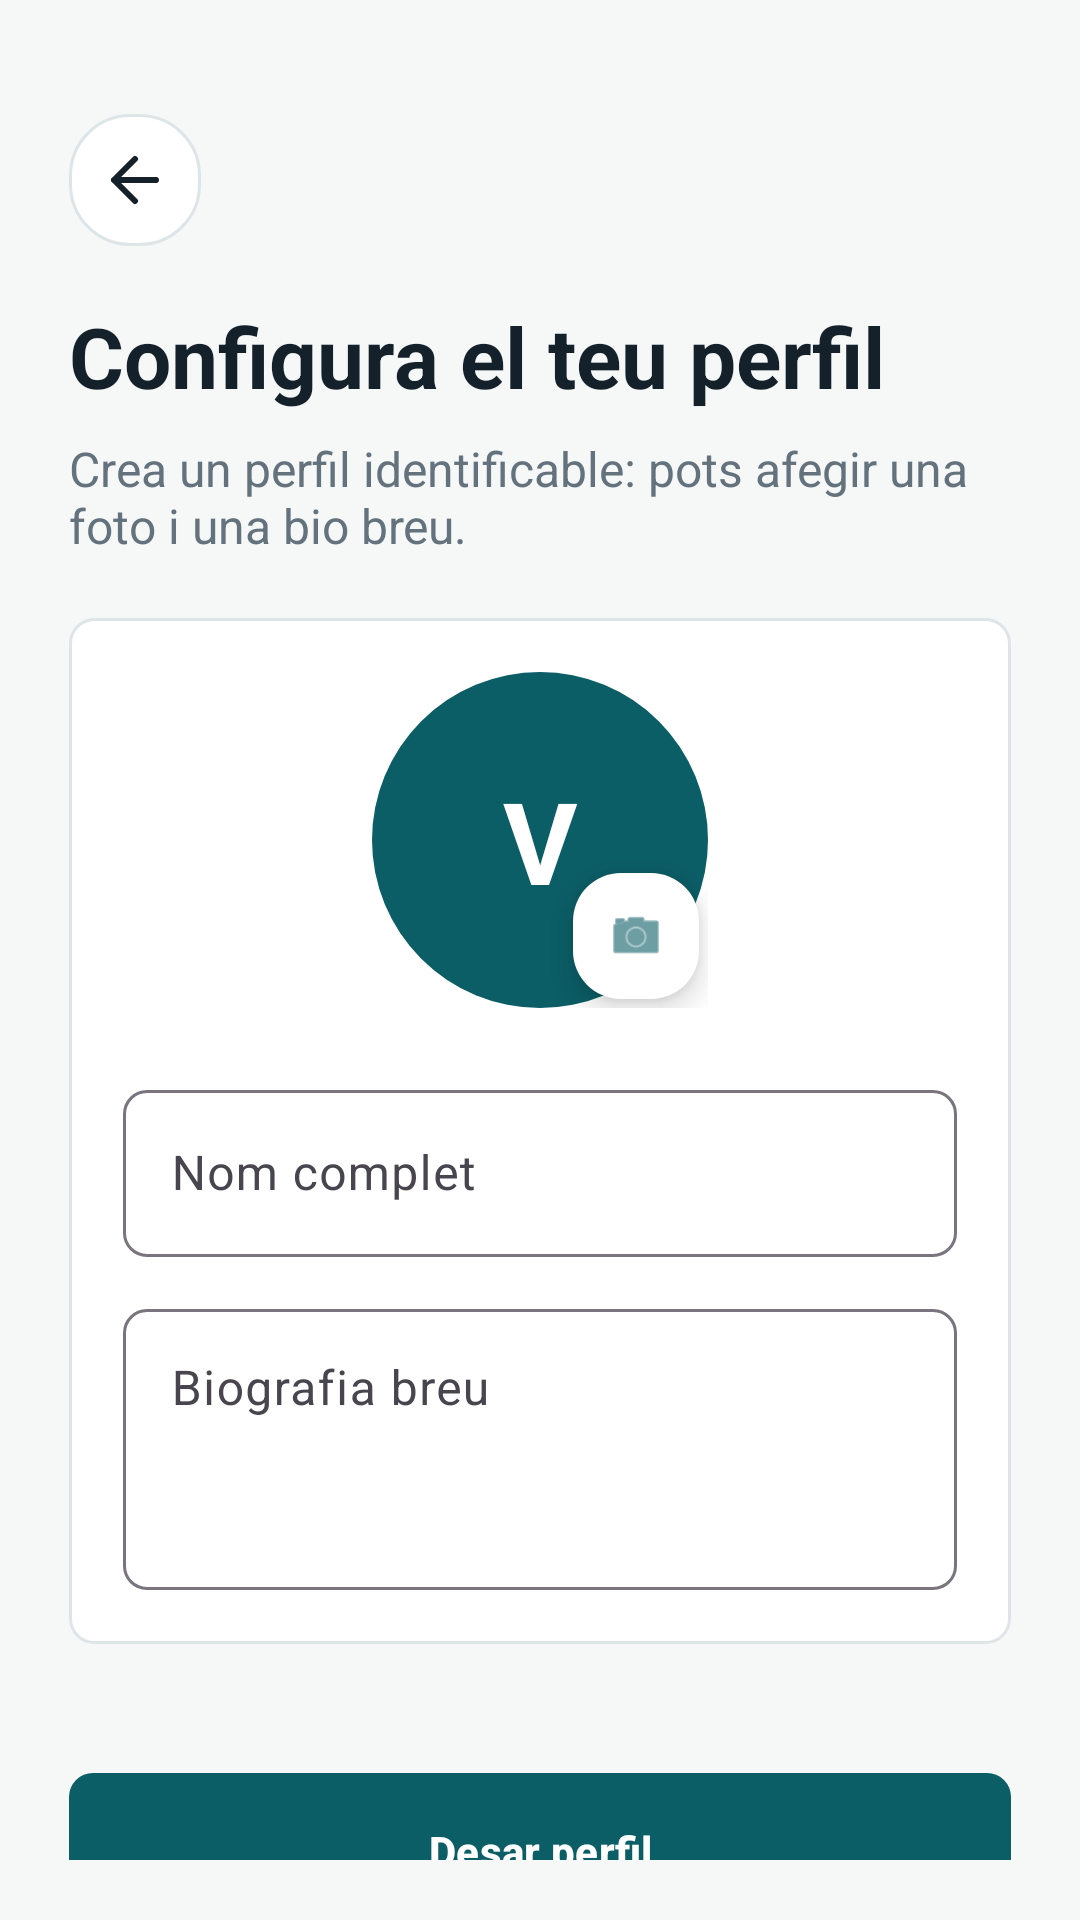

Named icons in this screenshot (1080x1920) and their centers, point (x, y):
Torna enrere: point (135, 180)
Tria foto de perfil: point (636, 936)
